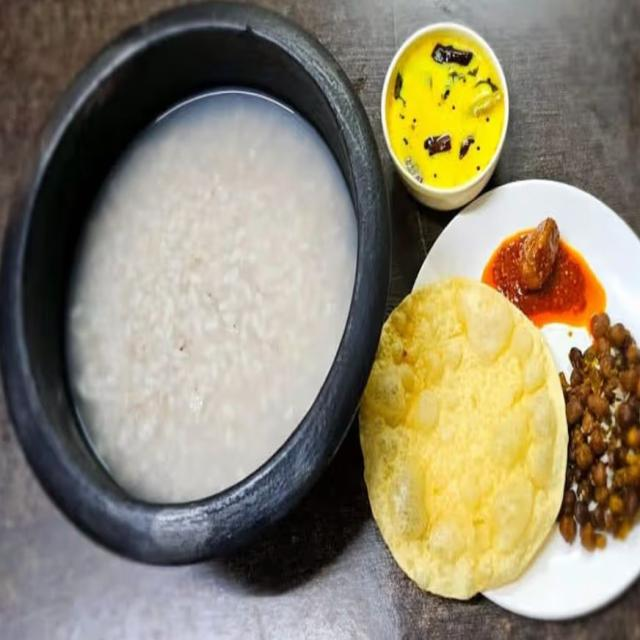PAPADAM: (367, 283, 566, 599)
PICKLE: (487, 218, 599, 323)
PORRIDGE: (71, 91, 358, 499)
SUNDAL: (567, 331, 633, 522)
